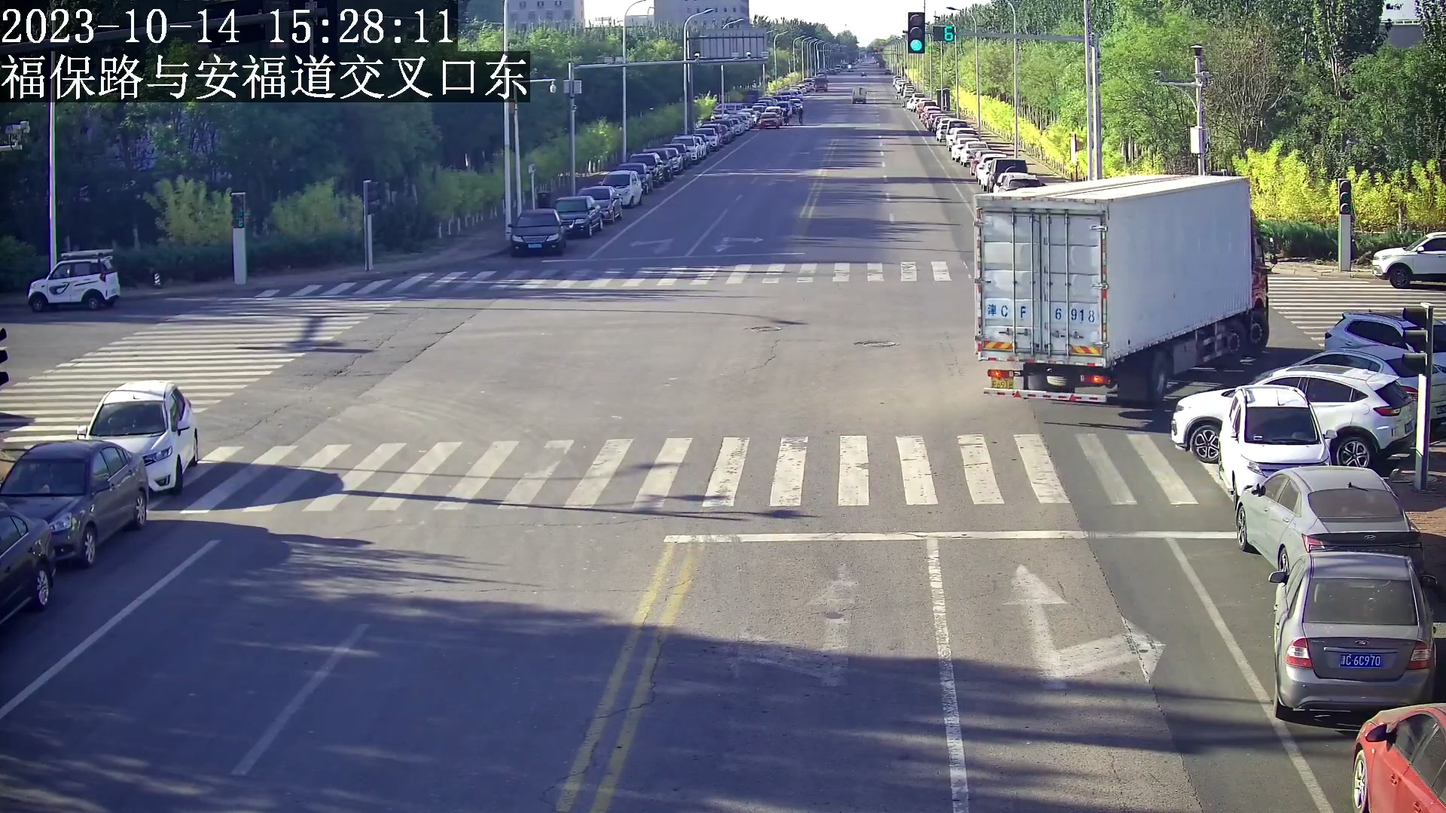vehicle: (967, 170, 1275, 401), (1266, 550, 1435, 720), (1172, 364, 1414, 464), (1236, 466, 1423, 577), (1, 441, 146, 562), (73, 379, 199, 493), (1219, 383, 1332, 487), (24, 249, 117, 309), (1370, 230, 1444, 285), (508, 206, 566, 254), (553, 195, 601, 236)
